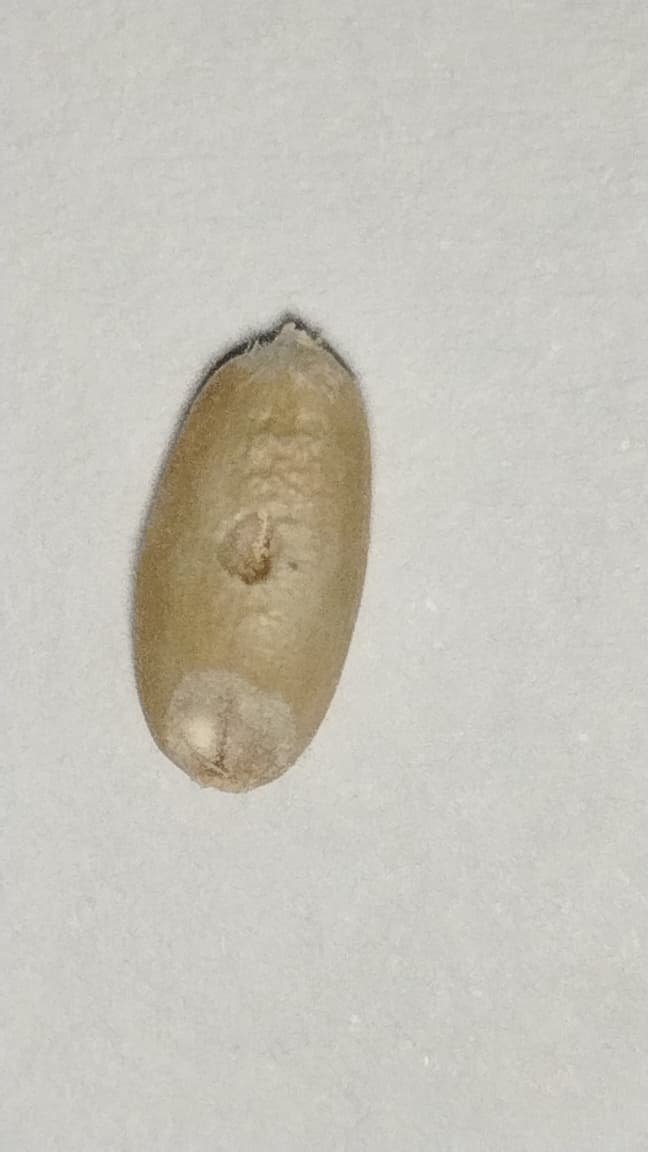damage: (129, 317, 373, 792)
insectdamage: (180, 458, 329, 678), (153, 645, 310, 812)
